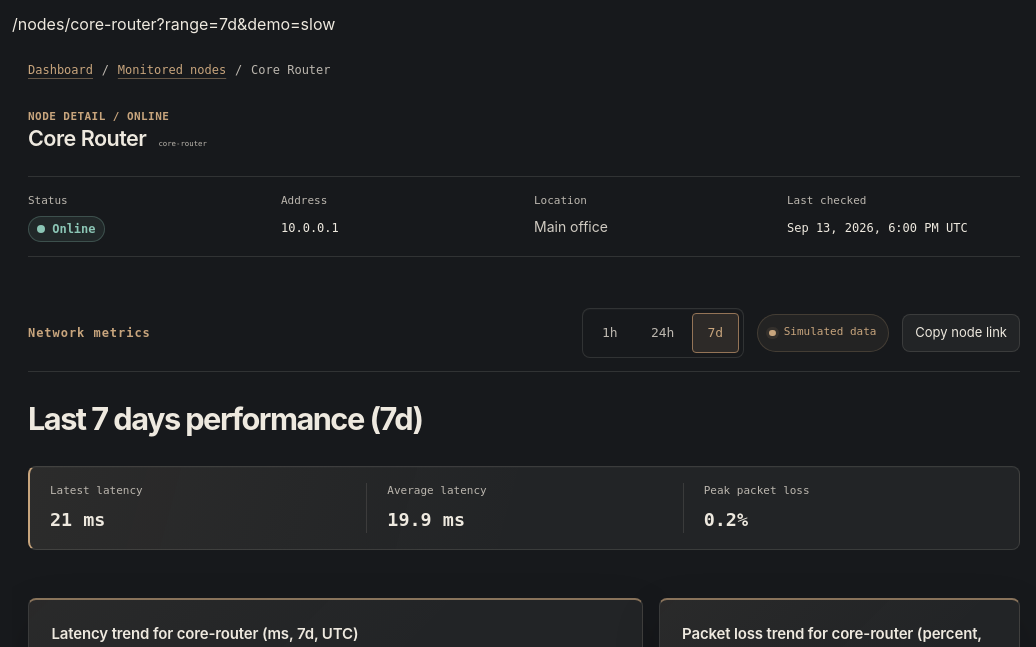
Test case: NetworkNodeDetailsPage › offers a clean node URL for manual copying when clipboard access fails
Expected: the heading "Last 7 days performance (7d)" is shown, [28,400,423,437]
Click the button "Copy node link". click: [961, 333]
box: [902,314,1020,352]
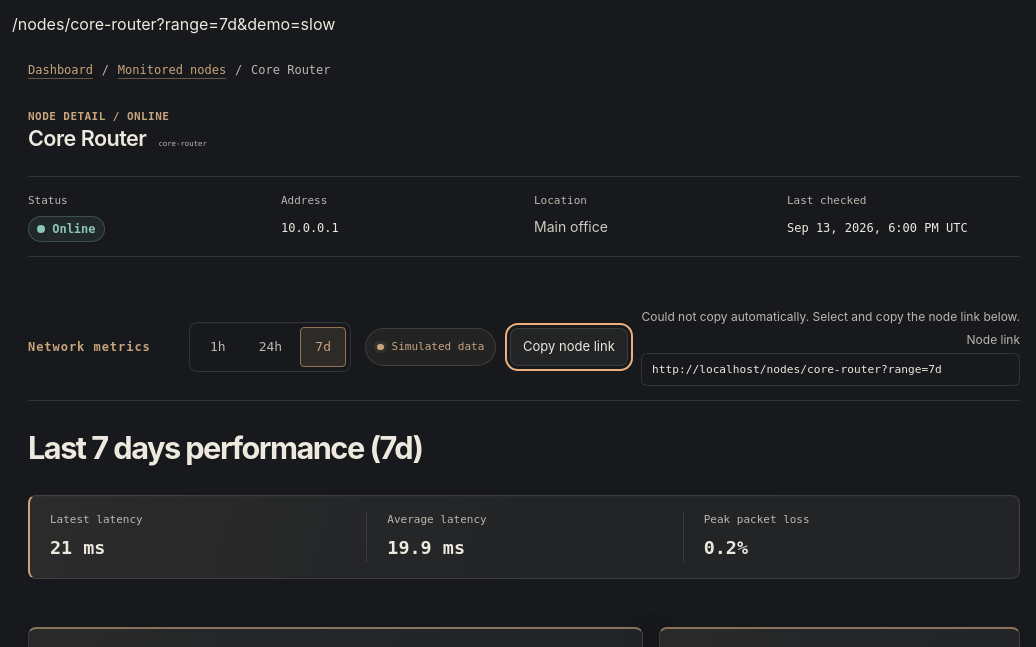
Expected: the message reads "Could not copy automatically. Select and copy the node link below.", [641,309,1020,324]
